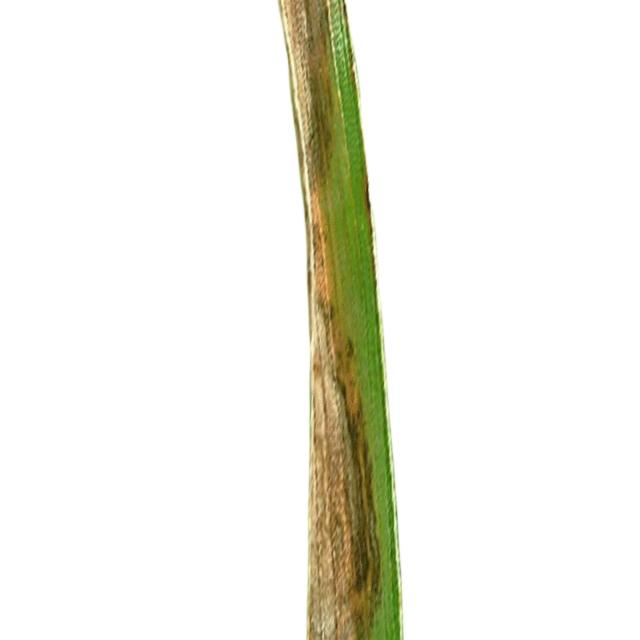Leaf scald: (246, 0, 467, 640)
